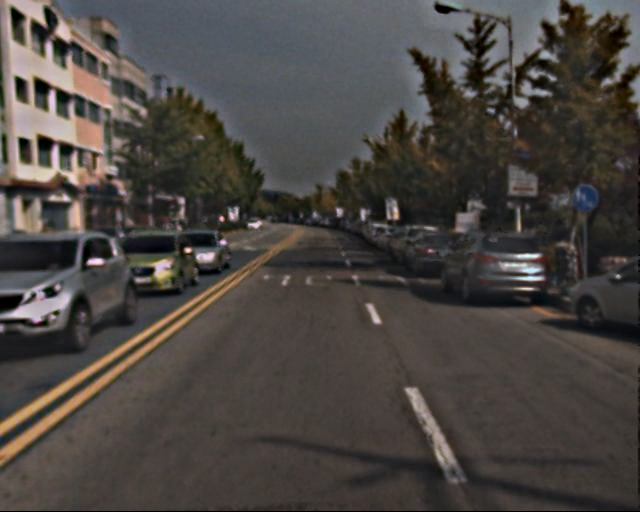person: (543, 216, 575, 284), (517, 220, 542, 282)
